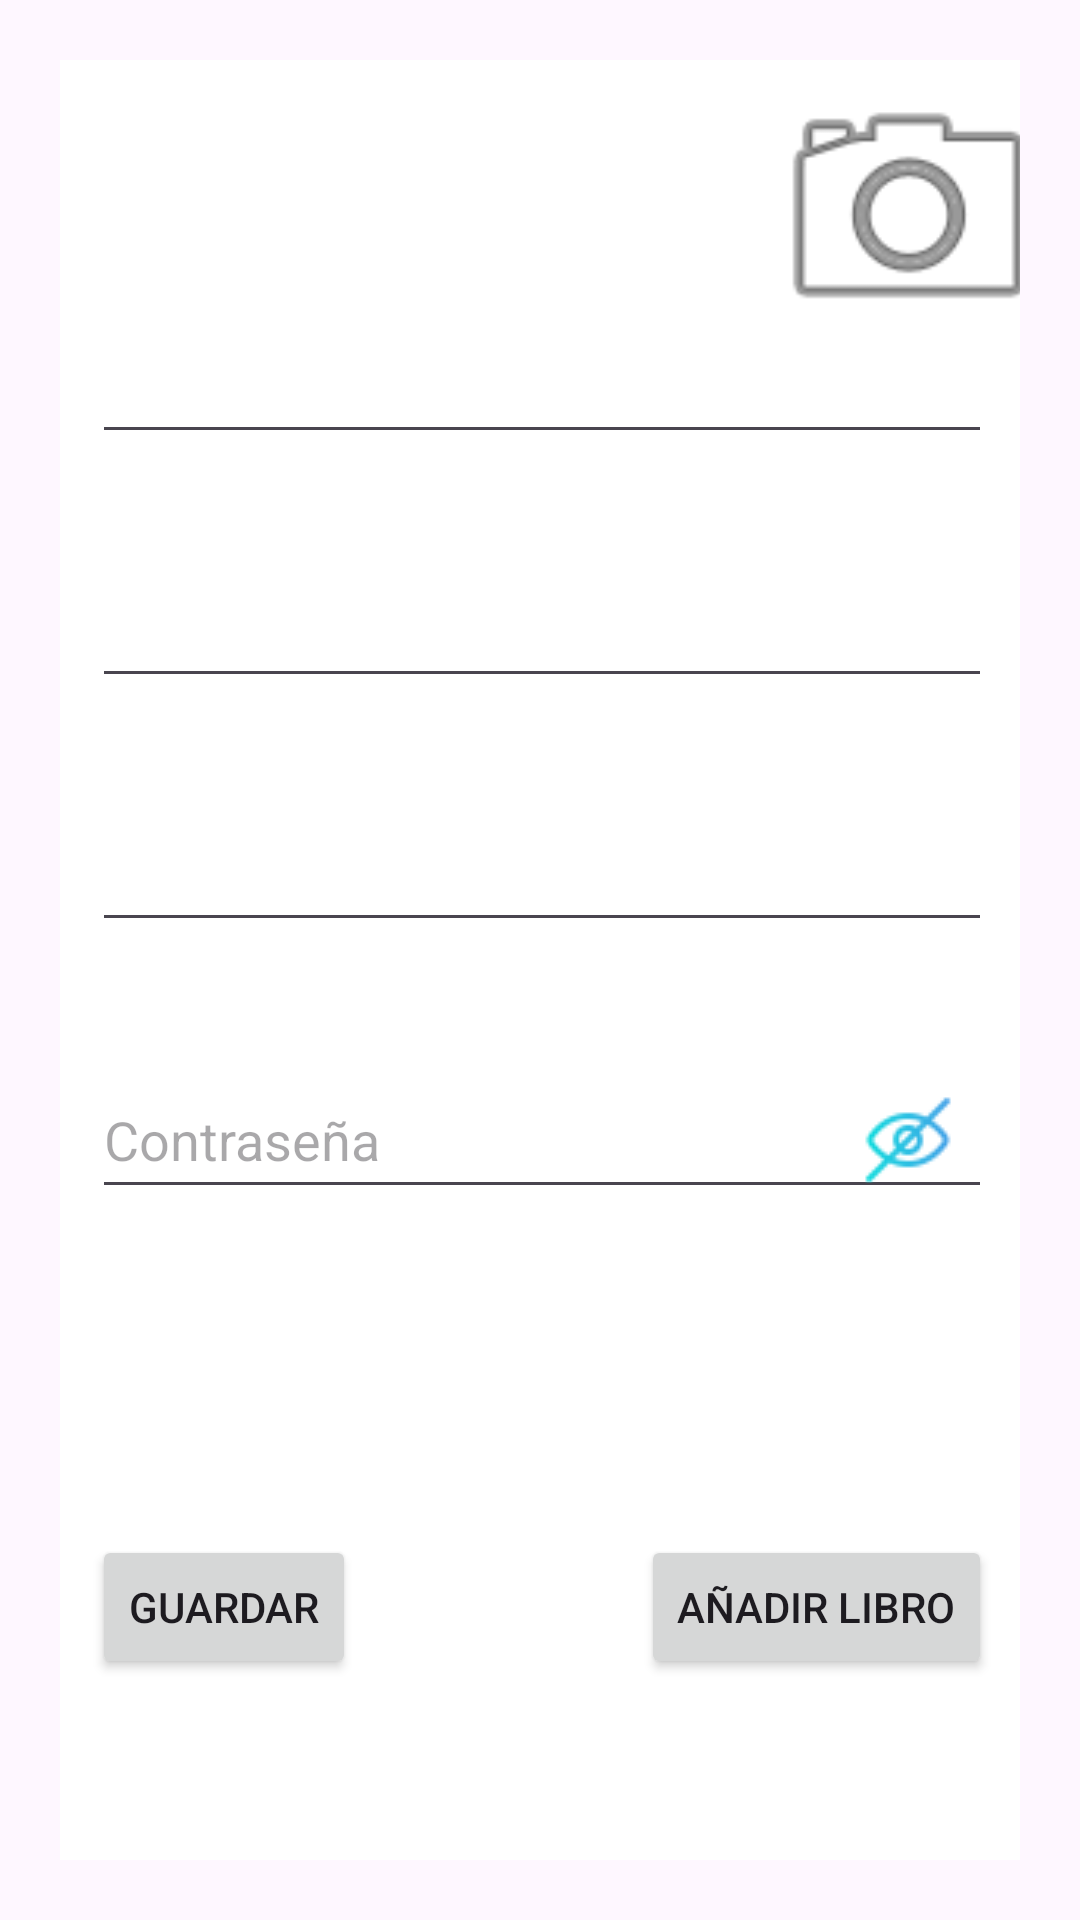

Named icons in this screenshot (1080px×1920px) and their bounding boxes, bbox=(x1, y1, x2, y2):
Botón de foto: bbox=(793, 113, 1020, 298)
